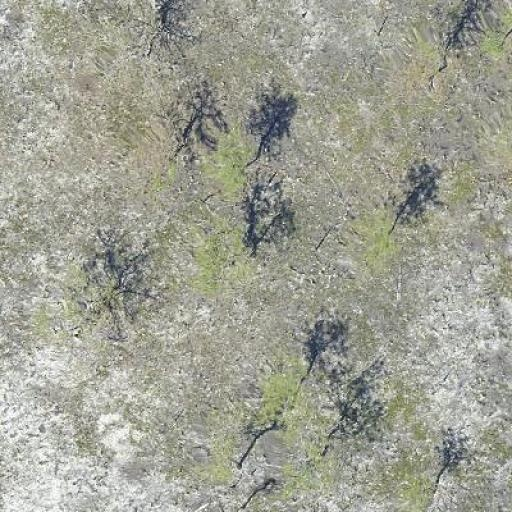tree-top: (50, 259, 152, 345), (190, 217, 262, 300), (257, 361, 315, 442), (345, 206, 407, 274), (202, 129, 259, 197)
